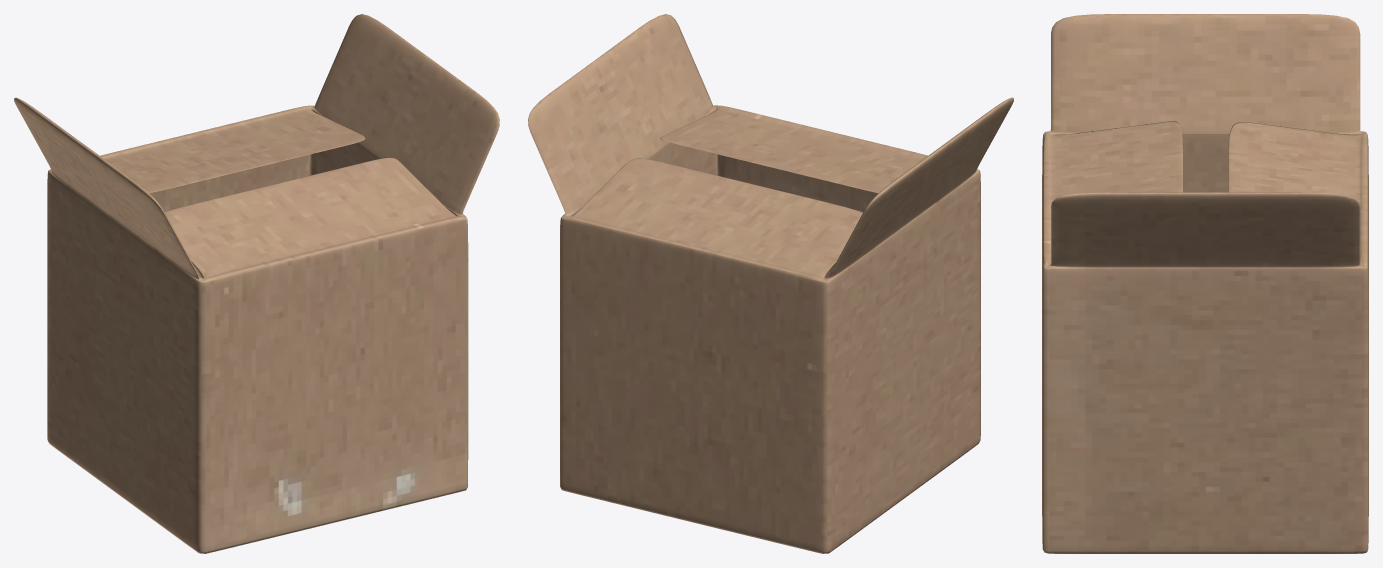
File: CardBoardBox.fbx
3 views of the same model, side by side, from view 1: azimuth 30°, elevation 25°; view 2: azimuth 150°, elevation 25°; view 3: azimuth 270°, elevation 25° (orthographic). The views are drawn at different scales.
Parts seen in each view (by area): view 1: Box; view 2: Box; view 3: Box.
Boxes of the visible parts, x1,y1,x2,y2 form: Box: [14, 14, 499, 553]; Box: [528, 14, 1013, 553]; Box: [1042, 14, 1368, 553].
Bounding box in the file's own units: 4.44 × 4.42 × 3.42.
1 material, 1 textured.
